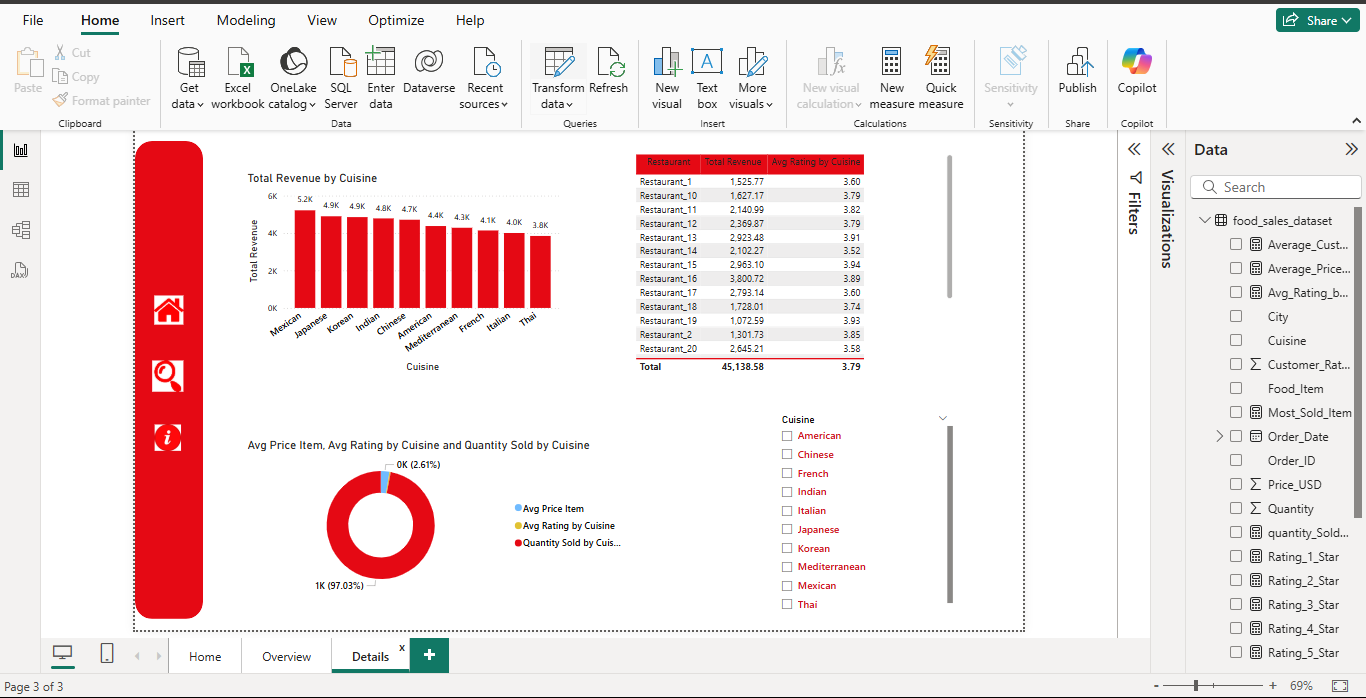

What the dashboard file says about the page in this screenshot:
{"tool":"powerbi","page":{"name":"Details","canvas":[1280,720],"ordinal":2},"visuals":[{"type":"lineClusteredColumnComboChart","fields":{"Category":["food_sales_dataset.Cuisine"],"Y":["food_sales_dataset.Total_Revenue_Restaurant"]},"box":[157,59,462.2,295.2],"z":0},{"type":"tableEx","fields":{"Values":["food_sales_dataset.Restaurant","food_sales_dataset.Total_Revenue_Restaurant","food_sales_dataset.Avg_Rating_by_Cuisine"]},"box":[715.7,30.2,466.6,324],"z":1000},{"type":"donutChart","fields":{"Y":["food_sales_dataset.Average_Price_Item","food_sales_dataset.Avg_Rating_by_Cuisine","food_sales_dataset.quantity_Sold_by_Cuisine"]},"box":[157,443.5,558.7,231.8],"z":2000},{"type":"slicer","fields":{"Values":["food_sales_dataset.Cuisine"]},"box":[918.7,403.2,263.5,295.2],"z":3000},{"type":"shape","box":[0,15.8,97.9,688.3],"z":3001},{"type":"image","box":[18.7,233.3,59,51.8],"z":3002},{"type":"image","box":[18.7,326.9,57.6,54.7],"z":3003},{"type":"image","box":[17.3,419,59,47.5],"z":3004}]}

Visuals, with their boxes on the page's 1280x720 design canvas (x1, y1, x2, y2). These are canvas units, not pixel positions in the 1366x698 screenshot, which may show the page scaled, cropped or inside an application window:
lineClusteredColumnComboChart - food_sales_dataset.Cuisine x food_sales_dataset.Total_Revenue_Restaurant: Rect(157, 59, 619, 354)
tableEx - food_sales_dataset.Restaurant x food_sales_dataset.Total_Revenue_Restaurant: Rect(716, 30, 1182, 354)
donutChart - food_sales_dataset.Average_Price_Item x food_sales_dataset.Avg_Rating_by_Cuisine: Rect(157, 444, 716, 675)
slicer - food_sales_dataset.Cuisine: Rect(919, 403, 1182, 698)
shape: Rect(0, 16, 98, 704)
image: Rect(19, 233, 78, 285)
image: Rect(19, 327, 76, 382)
image: Rect(17, 419, 76, 466)
